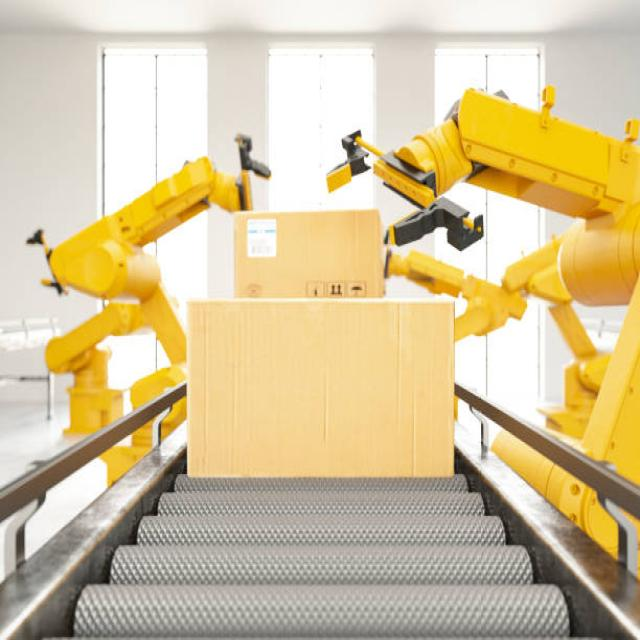Robotic-arm: (346, 76, 640, 556), (20, 134, 252, 461)
